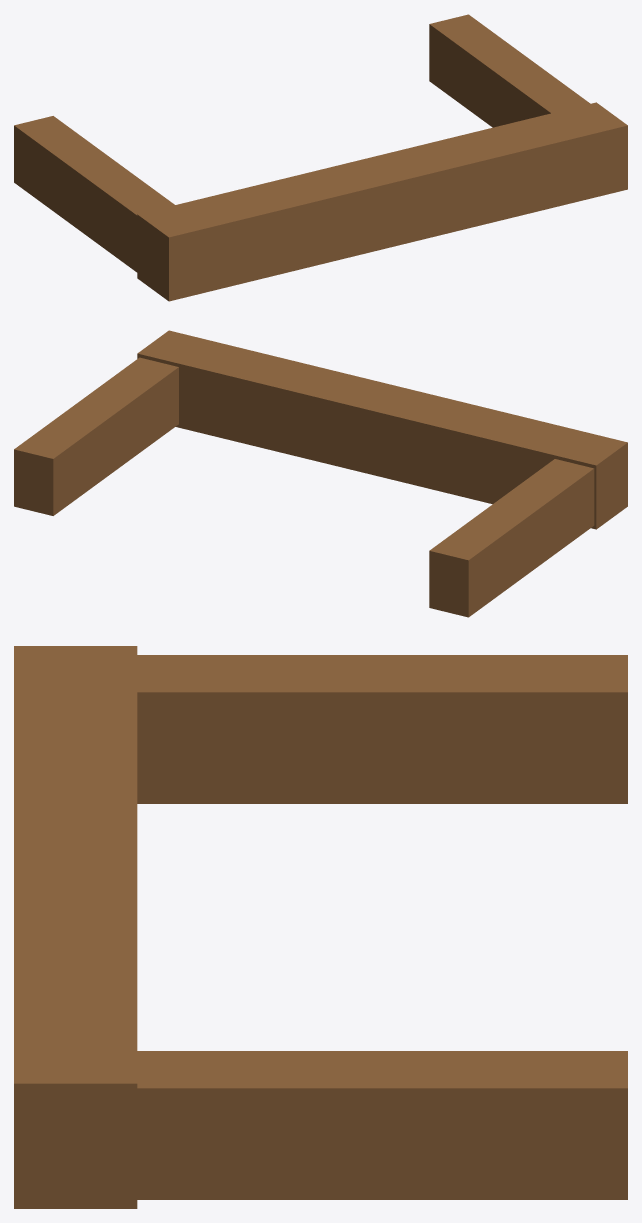
Rendered from duck_barrier.glb.
3 views of the same model, one above another, from view 1: azimuth 30°, elevation 25°; view 2: azimuth 150°, elevation 25°; view 3: azimuth 270°, elevation 25° (orthographic). The views are drawn at different scales.
Parts seen in each view (by area): view 1: part_2, part_0, part_1; view 2: part_2, part_0, part_1; view 3: part_0, part_1, part_2.
Part boxes in pixels (x1=…): part_2: x1=137, y1=102, x2=627, y2=301; part_0: x1=14, y1=116, x2=174, y2=272; part_1: x1=429, y1=14, x2=590, y2=127; part_2: x1=137, y1=330, x2=627, y2=529; part_0: x1=429, y1=459, x2=594, y2=617; part_1: x1=14, y1=357, x2=178, y2=515; part_0: x1=137, y1=655, x2=627, y2=803; part_1: x1=137, y1=1051, x2=627, y2=1199; part_2: x1=14, y1=646, x2=137, y2=1208.
Bounding box in the file's own units: 2.1 × 0.28 × 1.25.
